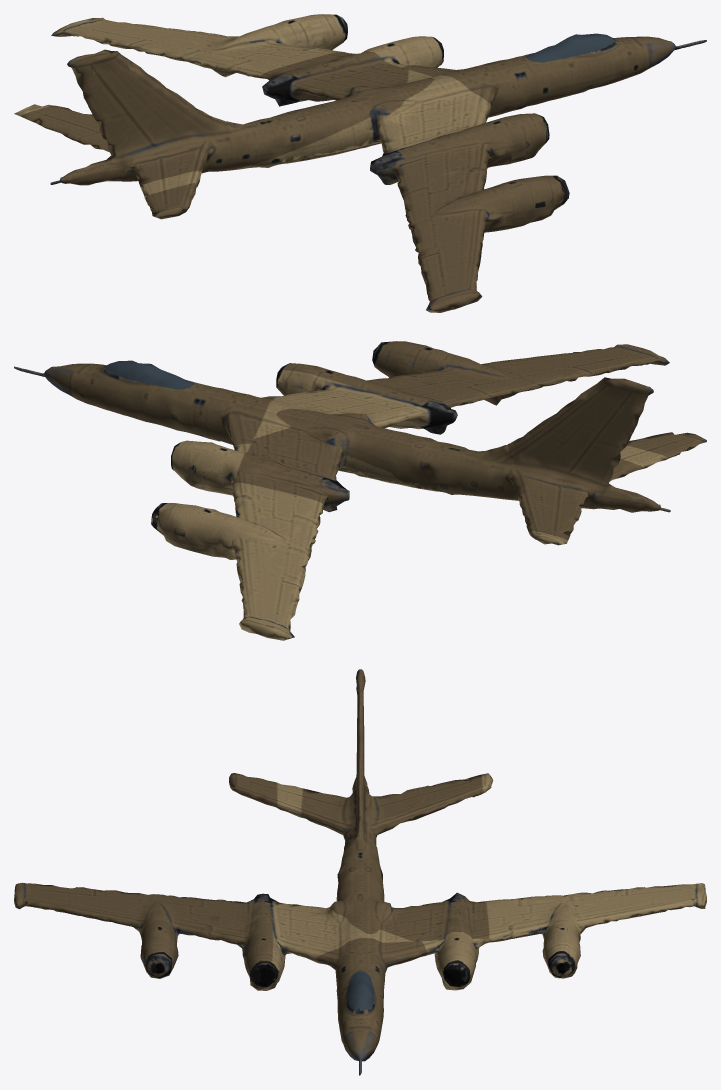
Rendered from fh_battle_bomber_1.glb.
3 renders of one model, top to bottom at view 1: azimuth 30°, elevation 25°; view 2: azimuth 150°, elevation 25°; view 3: azimuth 270°, elevation 25°, orthographic. The views are drawn at different scales.
Parts seen in each view (by area): view 1: fh_battle_bomber_1; view 2: fh_battle_bomber_1; view 3: fh_battle_bomber_1.
Part boxes in pixels (box(x1,y1,x2,y2)): fh_battle_bomber_1: box(14, 14, 706, 312); fh_battle_bomber_1: box(14, 341, 706, 640); fh_battle_bomber_1: box(14, 669, 706, 1075).
Bounding box in the file's own units: 0.9975 × 0.2419 × 1.
2 materials, 1 textured.
